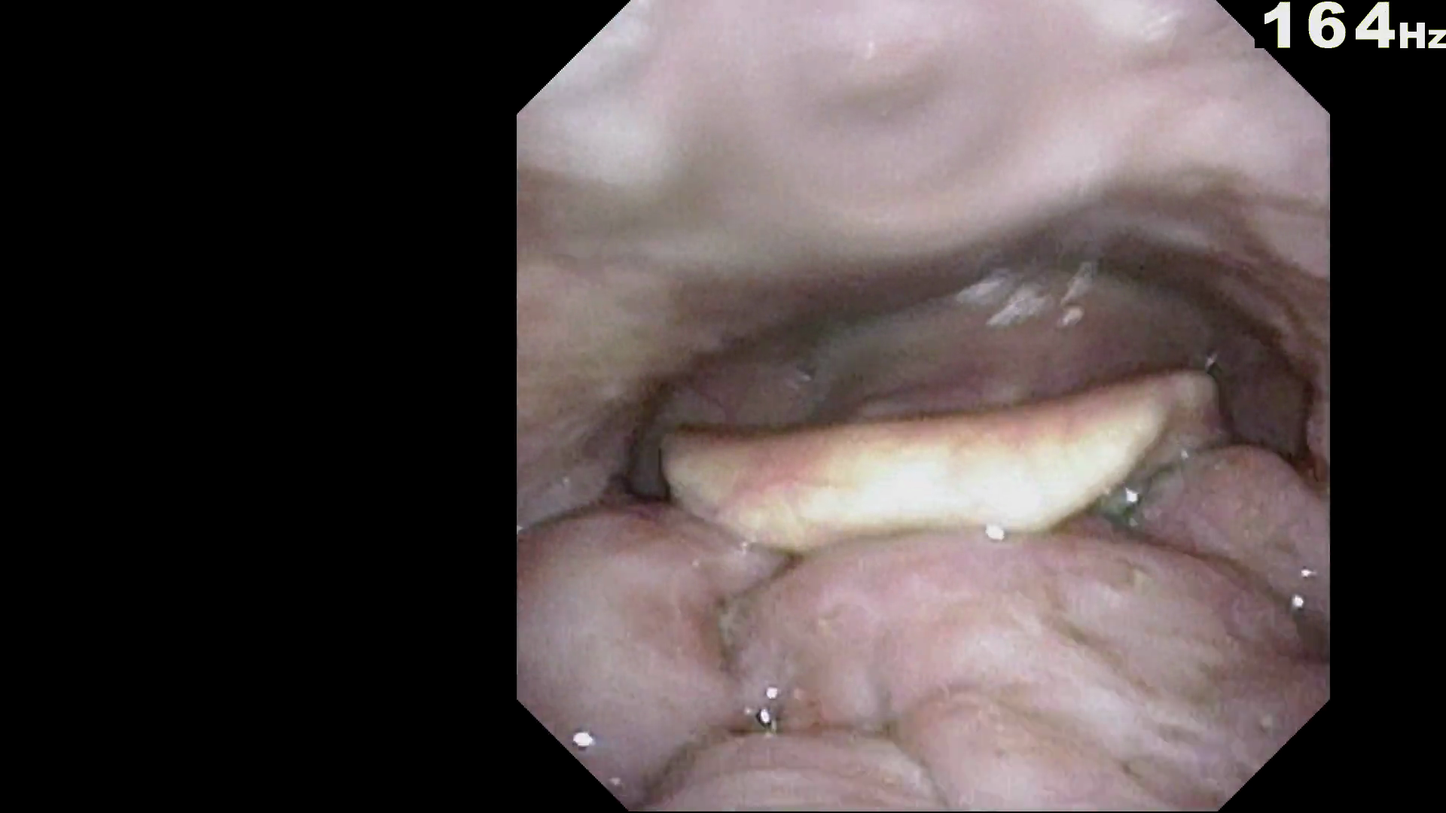epiglottis: (680, 428, 1214, 572)
